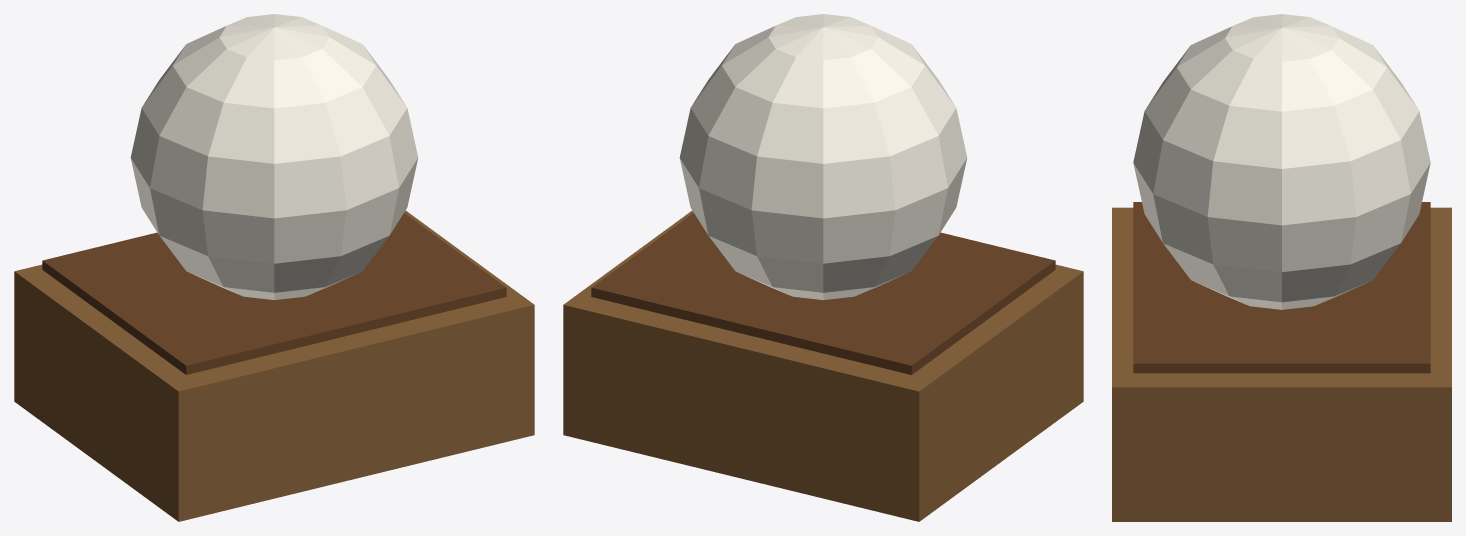
Rendered from brownie.glb.
3 renders of one model, left to right at view 1: azimuth 30°, elevation 25°; view 2: azimuth 150°, elevation 25°; view 3: azimuth 270°, elevation 25°, orthographic. The views are drawn at different scales.
Bounding box in the file's own units: 0.2 × 0.21 × 0.16.
